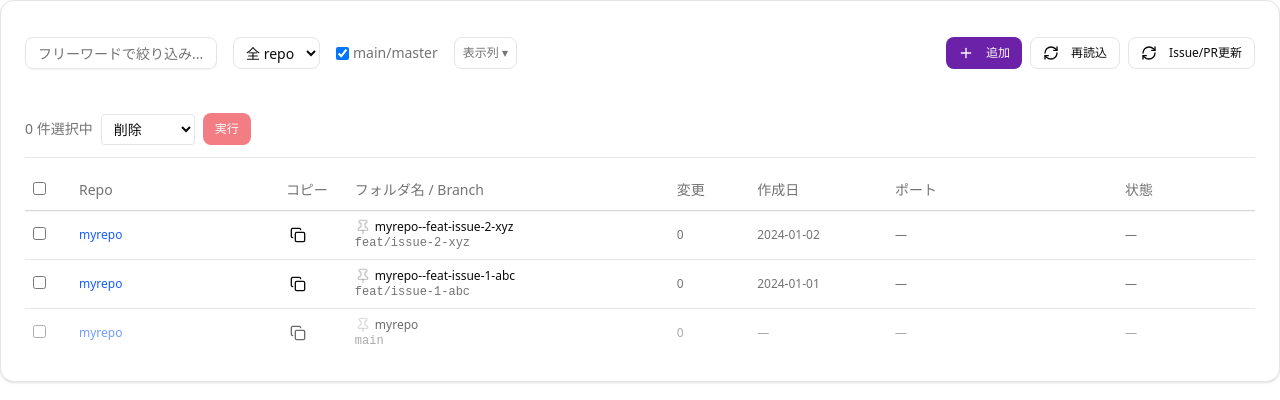
Scenario: TreesPage - checkbox and bulk action › ヘッダチェックボックスで main 含む全行を選択する
Click the checkbox named "全選択" at (40, 188), box [33,182,46,195]
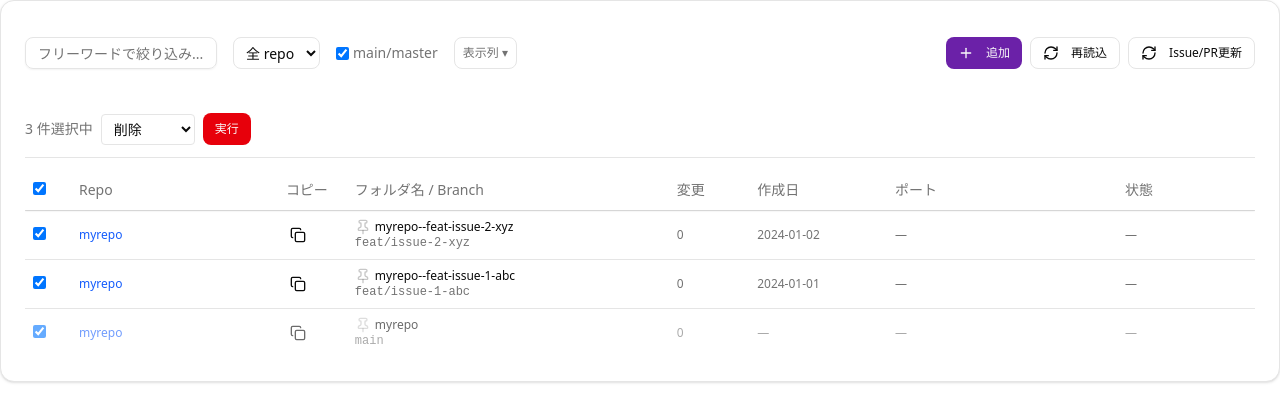
Result: the checkbox named "myrepo/myrepo--feat-issue-1-abc を選択" is checked at [33,276,46,288]
Result: the checkbox named "myrepo/myrepo--feat-issue-2-xyz を選択" is checked at [33,226,46,240]
Result: the checkbox named "myrepo/myrepo を選択" is checked at [33,324,46,338]
